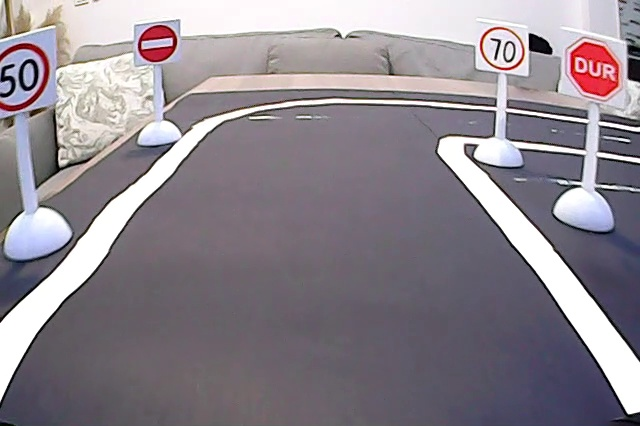do not enter: (134, 21, 180, 64)
speed limit 50: (1, 39, 57, 115)
speed limit 70: (477, 22, 529, 75)
stop sign: (563, 33, 627, 105)
